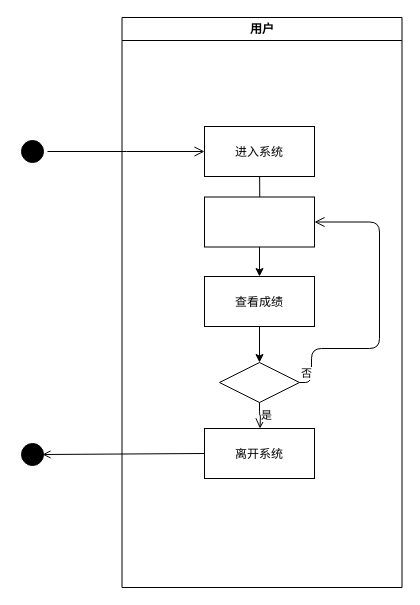
Image size: 420x605. Some labels were removed from this diagram. Here are the shapes that lost their labels. From the top down, the box of each, then its label:
(204, 196, 314, 247): 选择查询科目
(218, 362, 300, 402): 是否查询完
